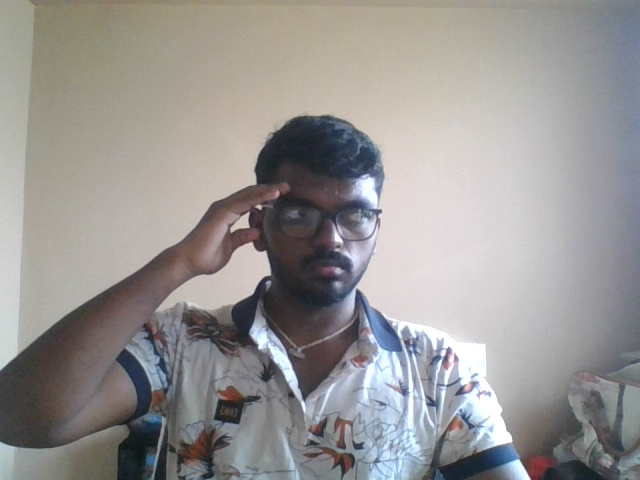Hello: (175, 165, 292, 313)
